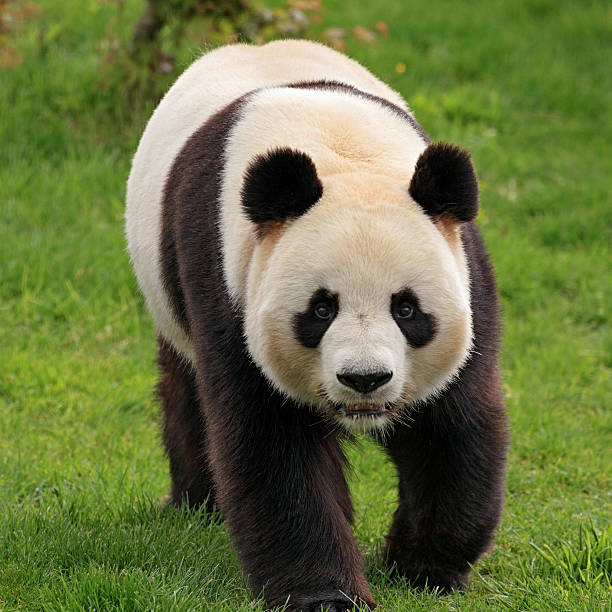panda: (170, 127, 508, 465)
